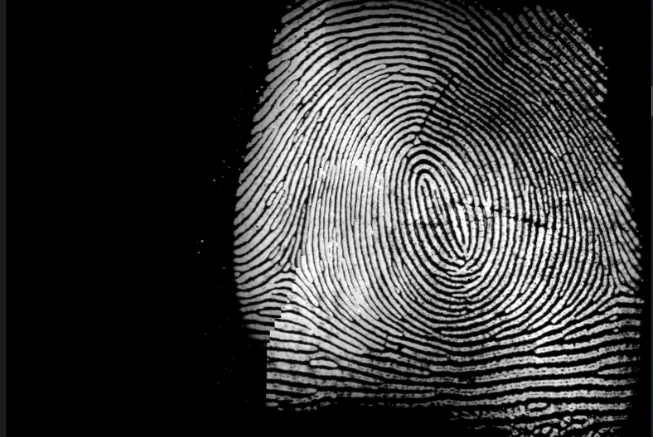deltas: (584, 259, 642, 314), (261, 234, 314, 289)
nucleo: (397, 154, 455, 213)
